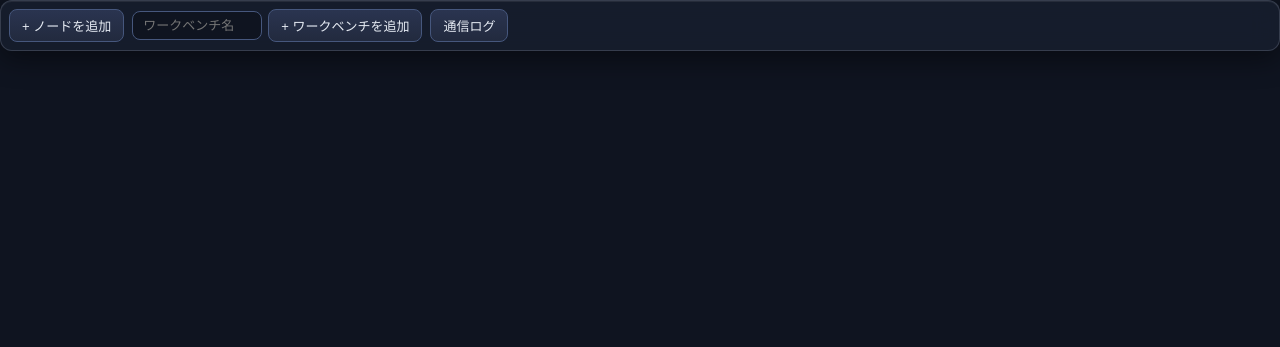
Test case: add-node pair hint (Issue #251: why EL/CL is a pair) › shows the second-line pair explanation alongside the existing generic hint
Hover over the element showing "+ ノードを追加" at [67, 26], box [9,9,124,42]
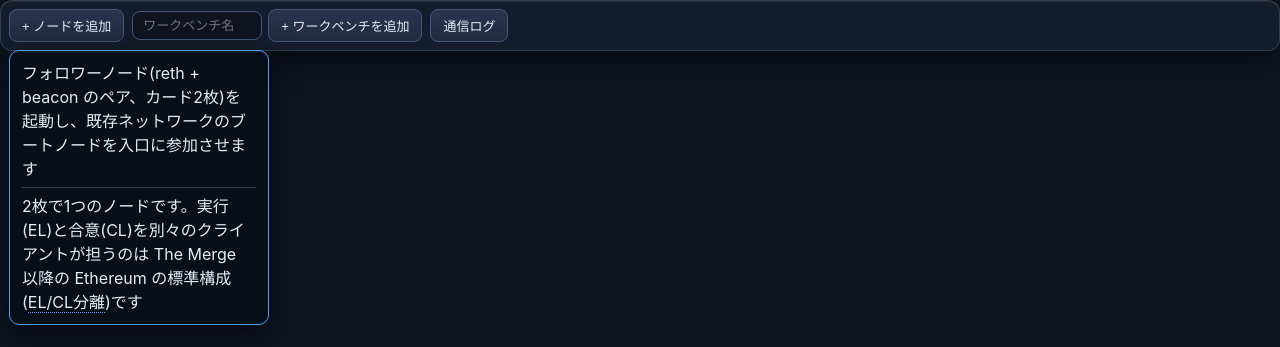
Check: the tooltip shows "2枚で1つのノードです。実行(EL)と合意(CL)を別々のクライアントが担うのは The Merge 以降の Ethereum の標準構成(", box [22,196,245,312]
Check: the tooltip shows "EL/CL分離", box [28,292,105,312]
Check: the tooltip shows ")です", box [105,292,143,312]
